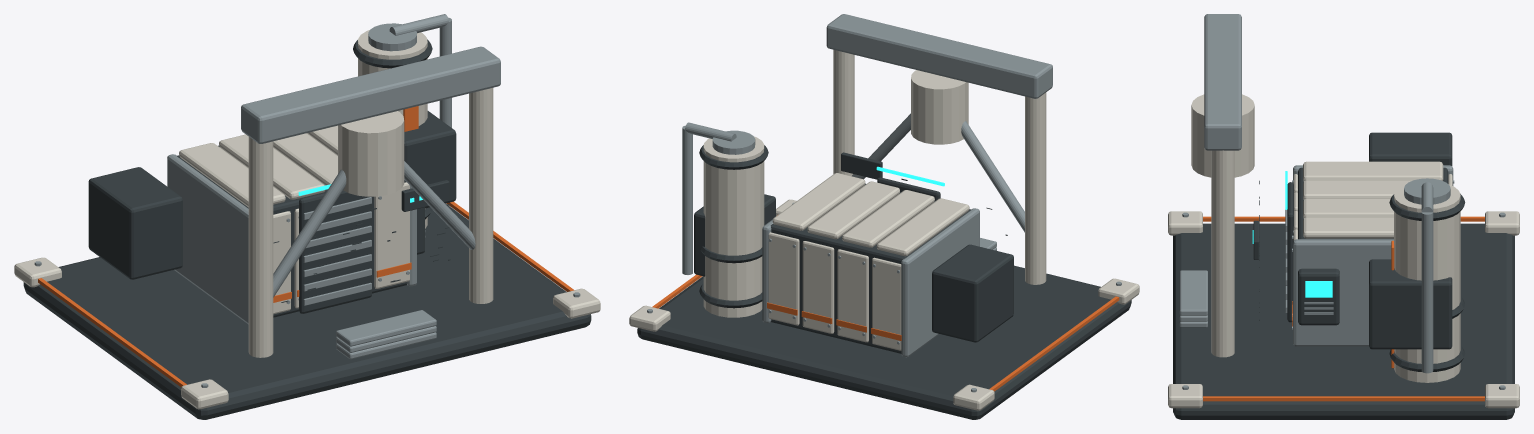
File: SM_SilicaExtractor_Body.002.fbx
The picture shows the model from 3 angles, left to right: view 1: azimuth 30°, elevation 25°; view 2: azimuth 150°, elevation 25°; view 3: azimuth 270°, elevation 25°; orthographic projection. The views are drawn at different scales.
Visible parts, largest first — view 1: SM_SilicaExtractor_Body.002; view 2: SM_SilicaExtractor_Body.002; view 3: SM_SilicaExtractor_Body.002.
Part boxes in pixels (box(x1,y1,x2,y2)): SM_SilicaExtractor_Body.002: box(14, 14, 600, 419); SM_SilicaExtractor_Body.002: box(629, 14, 1139, 419); SM_SilicaExtractor_Body.002: box(1168, 14, 1519, 419).
Size of the model in its own units: 532 by 422 by 347.
